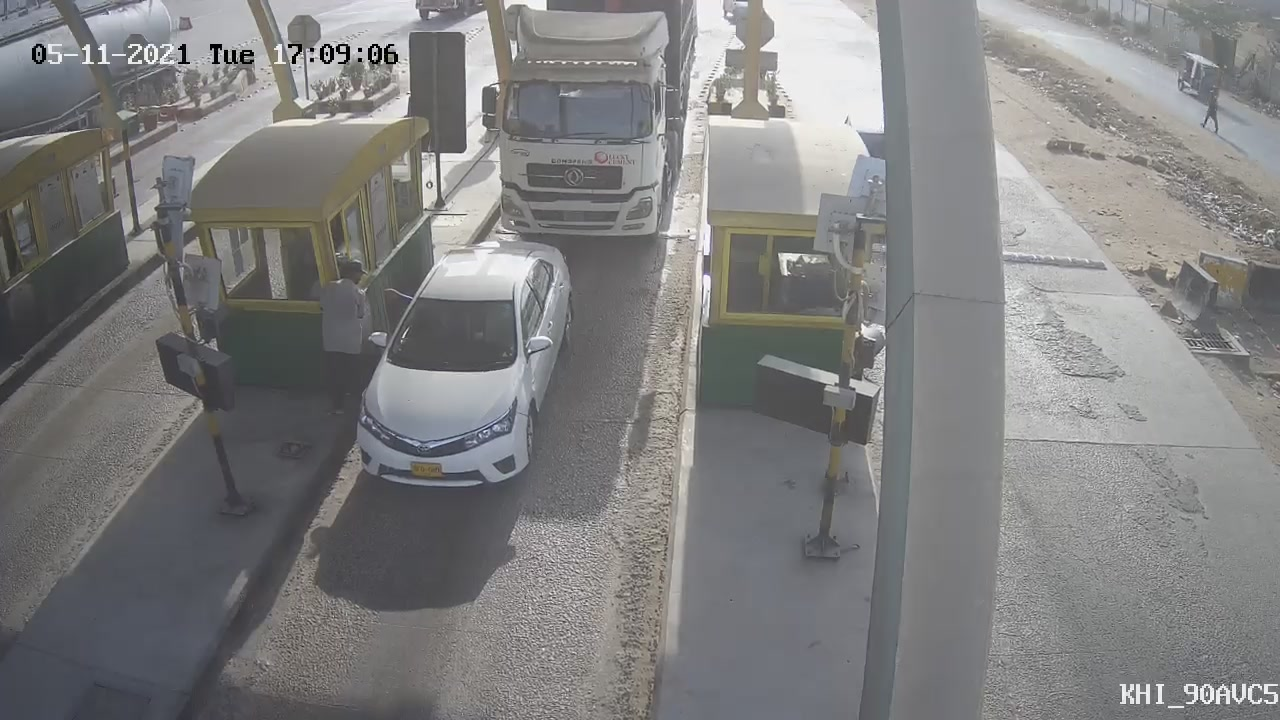F1: (335, 226, 586, 500)
